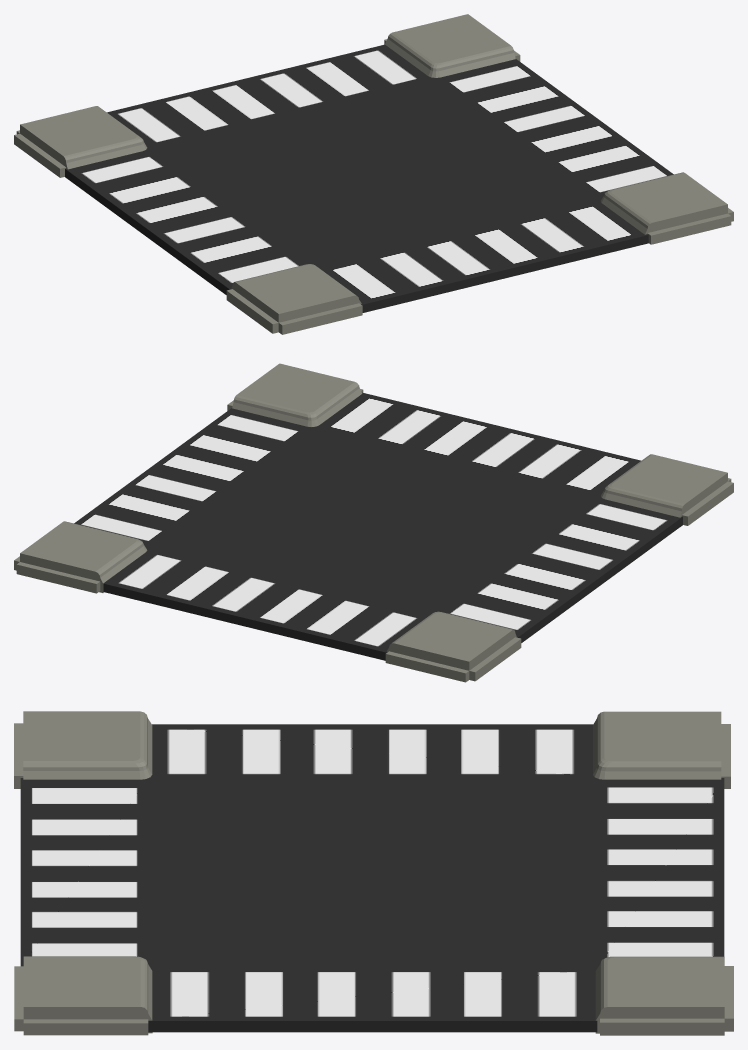
Rendered from Road 4Way.fbx.
3 views of the same model, one above another, from view 1: azimuth 30°, elevation 25°; view 2: azimuth 150°, elevation 25°; view 3: azimuth 270°, elevation 25° (orthographic). The views are drawn at different scales.
Parts seen in each view (by area): view 1: Road, Sidewalk, Sidewalk.001, Sidewalk.002, Sidewalk.003; view 2: Road, Sidewalk.002, Sidewalk.003, Sidewalk, Sidewalk.001; view 3: Road, Sidewalk.003, Sidewalk.001, Sidewalk, Sidewalk.002.
Boxes of the visible parts, bbox=[...] form: Road: bbox=[65, 44, 673, 312]; Sidewalk: bbox=[226, 264, 362, 334]; Sidewalk.001: bbox=[600, 172, 733, 244]; Sidewalk.002: bbox=[14, 106, 147, 177]; Sidewalk.003: bbox=[384, 14, 520, 77]; Road: bbox=[74, 392, 682, 660]; Sidewalk.002: bbox=[385, 611, 521, 682]; Sidewalk.003: bbox=[14, 521, 147, 593]; Sidewalk: bbox=[601, 454, 733, 525]; Sidewalk.001: bbox=[227, 363, 363, 426]; Road: bbox=[20, 724, 724, 1032]; Sidewalk.003: bbox=[595, 956, 733, 1035]; Sidewalk.001: bbox=[14, 956, 152, 1035]; Sidewalk: bbox=[14, 711, 152, 788]; Sidewalk.002: bbox=[593, 711, 730, 788].
Bounding box in the file's own units: 2877 × 118 × 2884.
